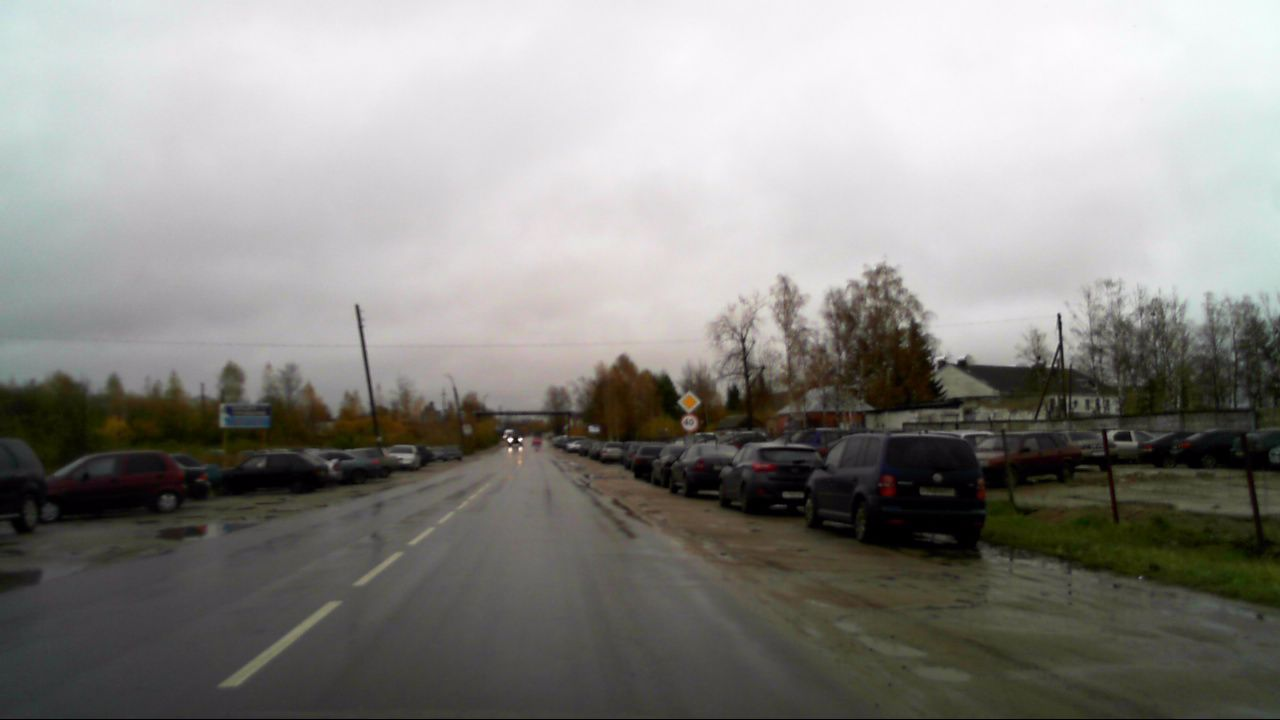speed_warning_40: (680, 413, 700, 432)
